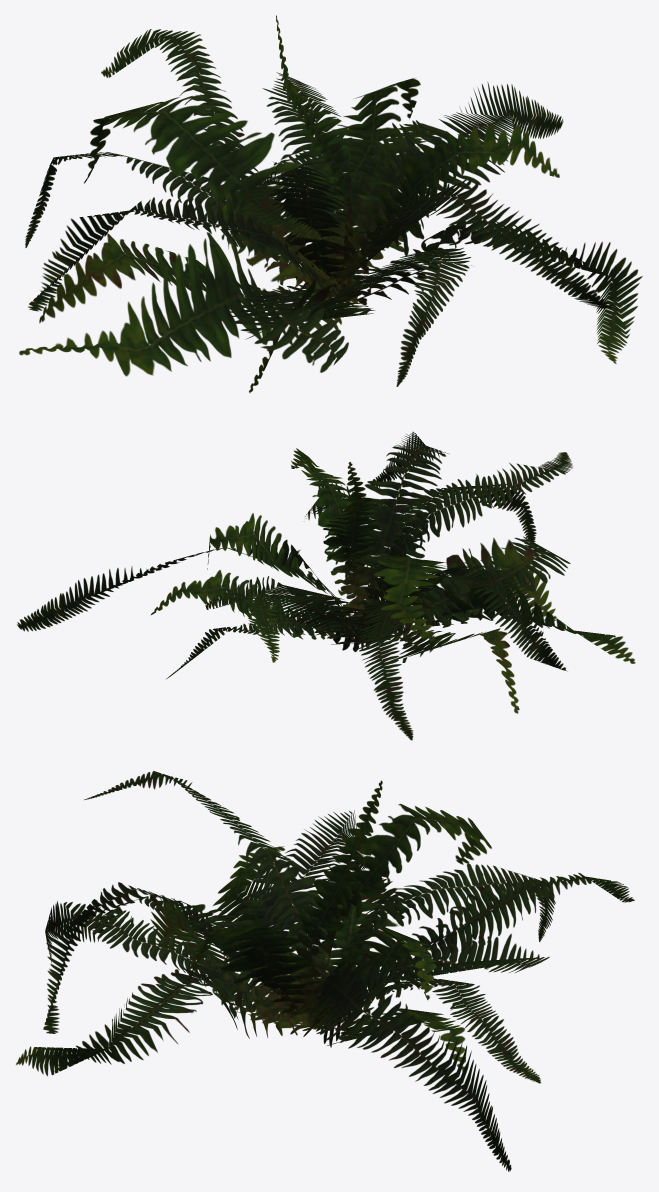
File: pine_fern_c.glb
The picture shows the model from 3 angles, top to bottom: view 1: azimuth 30°, elevation 25°; view 2: azimuth 150°, elevation 25°; view 3: azimuth 270°, elevation 25°; orthographic projection. The views are drawn at different scales.
Parts seen in each view (by area): view 1: pine_fern_c; view 2: pine_fern_c; view 3: pine_fern_c.
Boxes of the visible parts, x1,y1,x2,y2 form: pine_fern_c: (19,15,642,392); pine_fern_c: (17,431,635,740); pine_fern_c: (16,771,634,1171).
Size of the model in its own units: 1.15 by 0.4652 by 1.01.
Materials: 1 (1 with a texture image).
